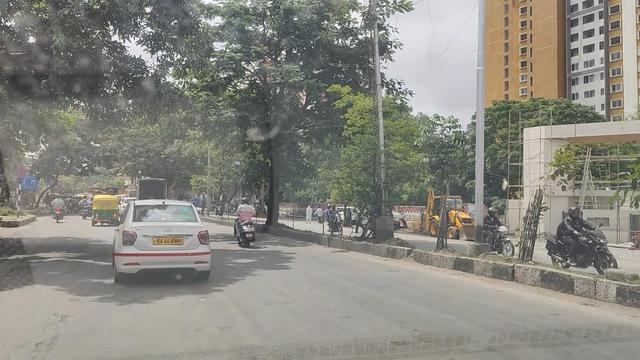LMV: (109, 195, 213, 288), (226, 187, 261, 243)
RoadDamages: (25, 295, 84, 360)
